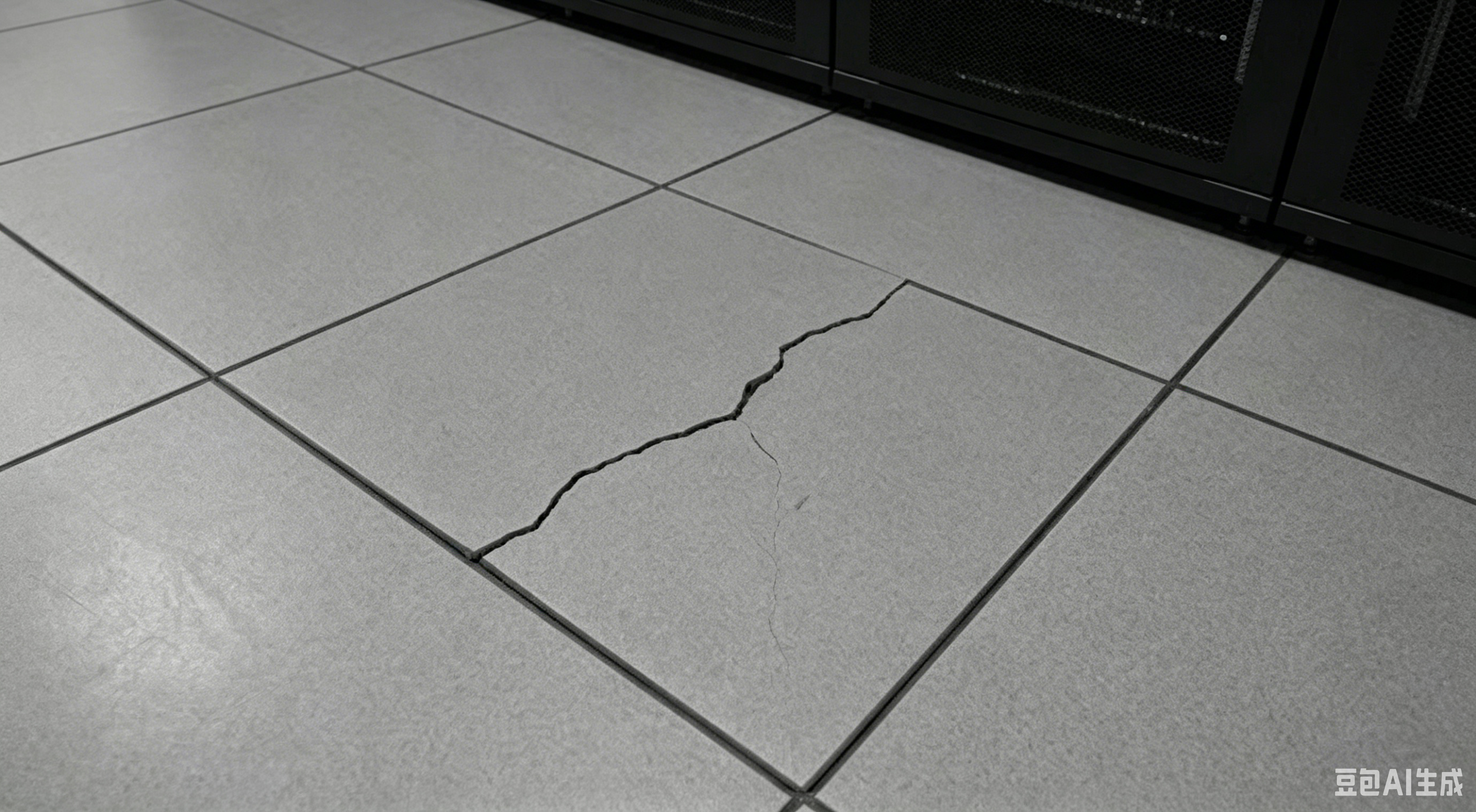floor_defect: (605, 362, 774, 478), (469, 450, 611, 563), (773, 274, 901, 394)
